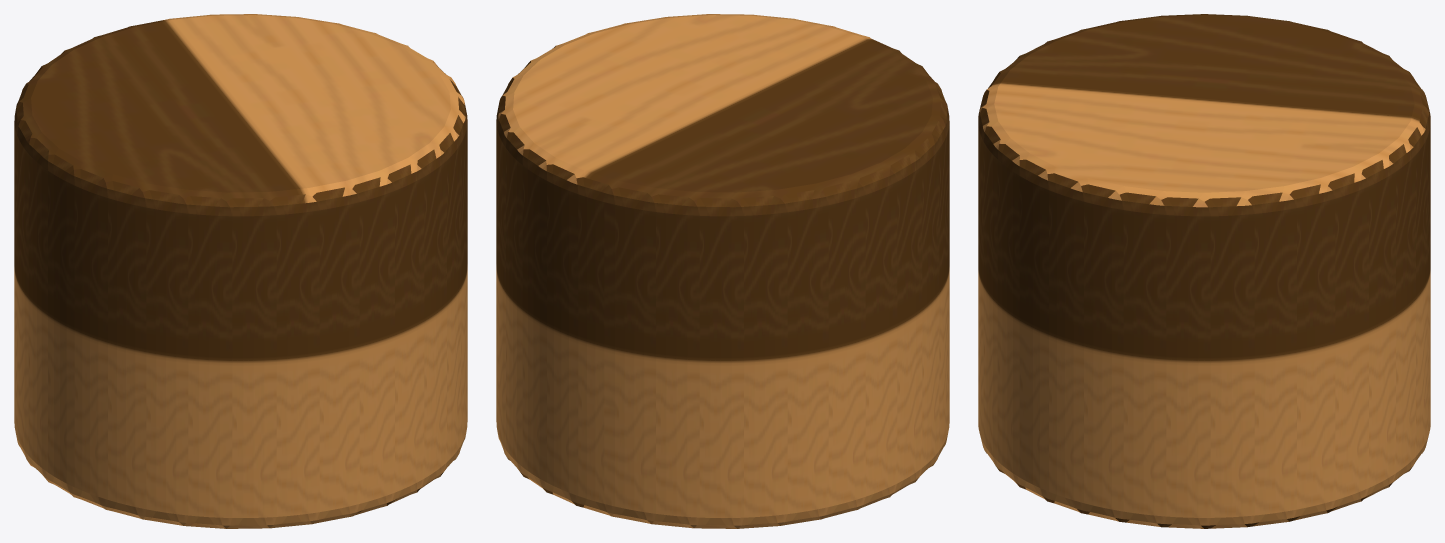
Rendered from RR_Resource_Fibron.obj.
3 renders of one model, left to right at view 1: azimuth 30°, elevation 25°; view 2: azimuth 150°, elevation 25°; view 3: azimuth 270°, elevation 25°, orthographic.
Visible parts, largest first — view 1: Cylinder; view 2: Cylinder; view 3: Cylinder.
Boxes of the visible parts, left/top/right/bottom form: Cylinder: left=14, top=14, right=467, bottom=528; Cylinder: left=496, top=14, right=949, bottom=528; Cylinder: left=978, top=14, right=1430, bottom=528.
Bounding box in the file's own units: 2.82 × 2.31 × 2.82.
